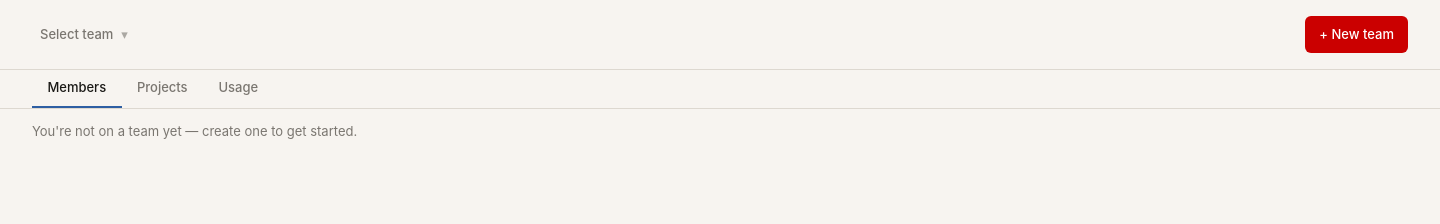
Scenario: TeamPage — with a team › switches to the Projects tab and renders assigned projects
This screenshot has width=1440, height=224.
Click the button "Projects": [162, 89] box [122,70,203,108]
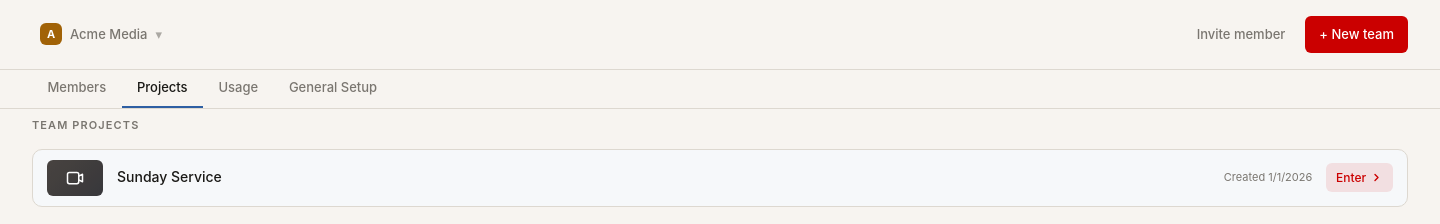
expect the text "Sunday Service" is shown: met, box [117,166,222,189]
